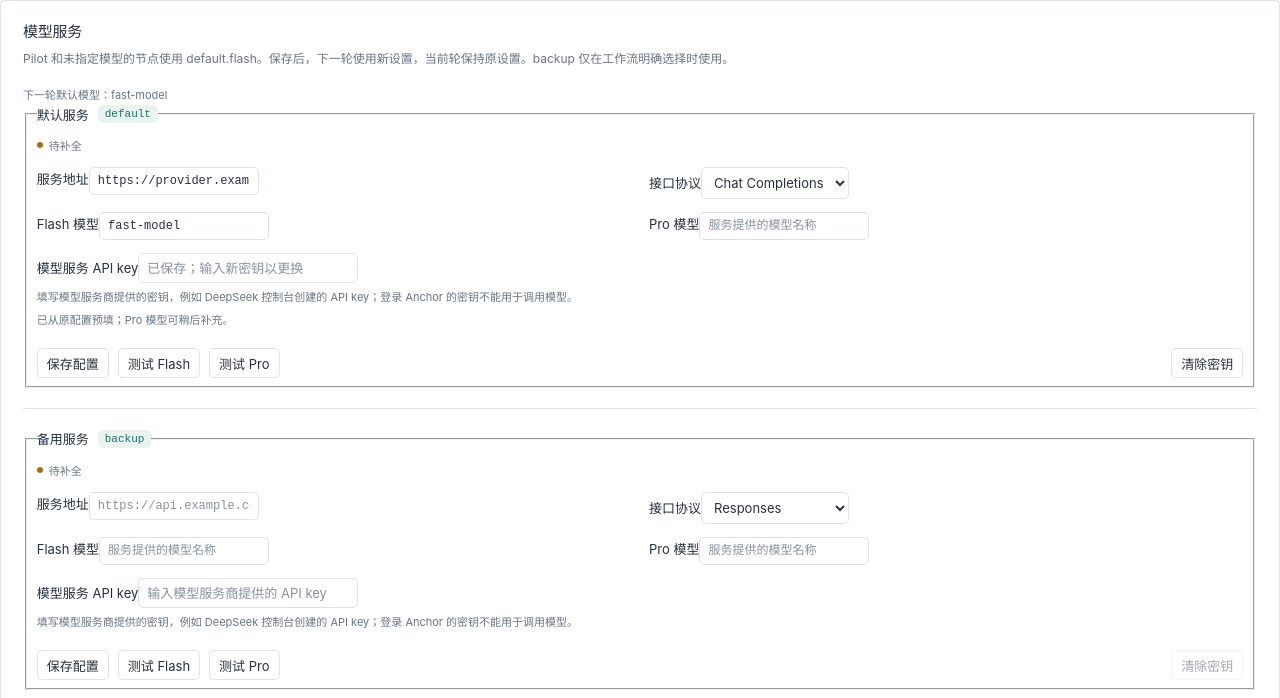
Test: Model provider settings › explains the known probe failure model provider response timed out without exposing raw errors
The width and height of the screenshot is (1280, 698).
Click the button "测试 Flash" below "已从原配置预填；Pro 模型可稍后补充。": point(159, 363) [118,348,200,378]
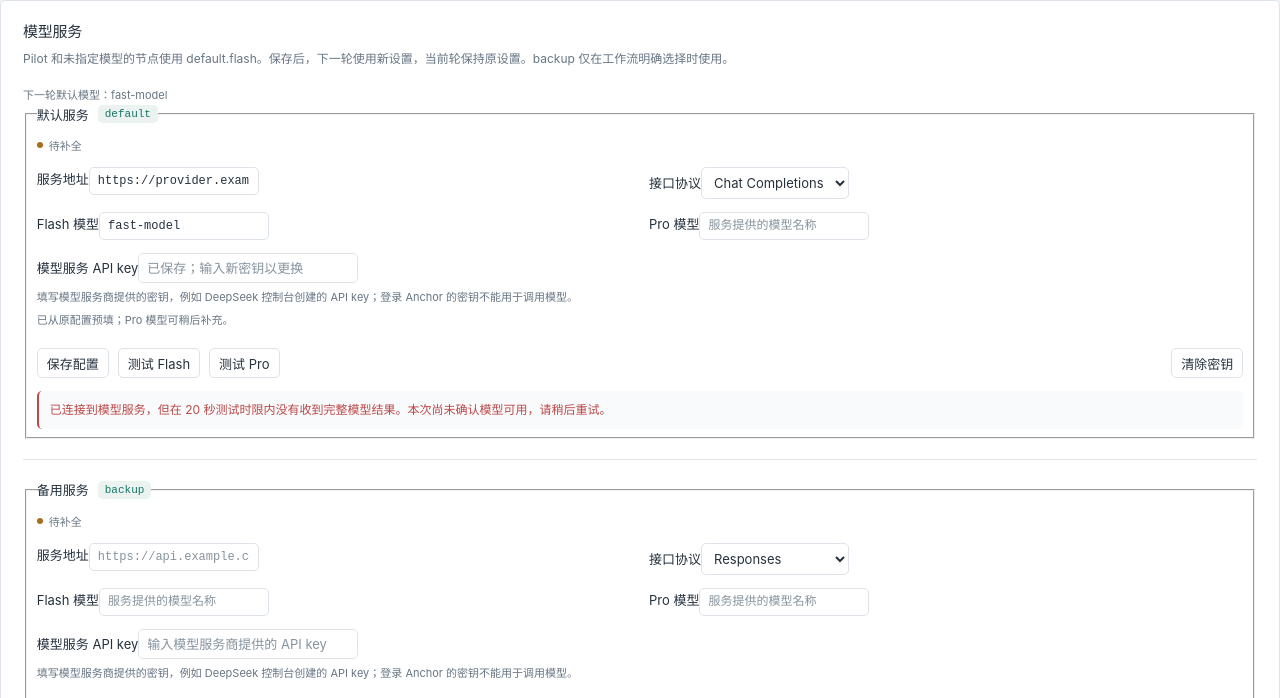
Check: the message "已连接到模型服务，但在 20 秒测试时限内没有收到完整模型结果。本次尚未确认模型可用，请稍后重试。" is shown, box [37,391,1243,429]
